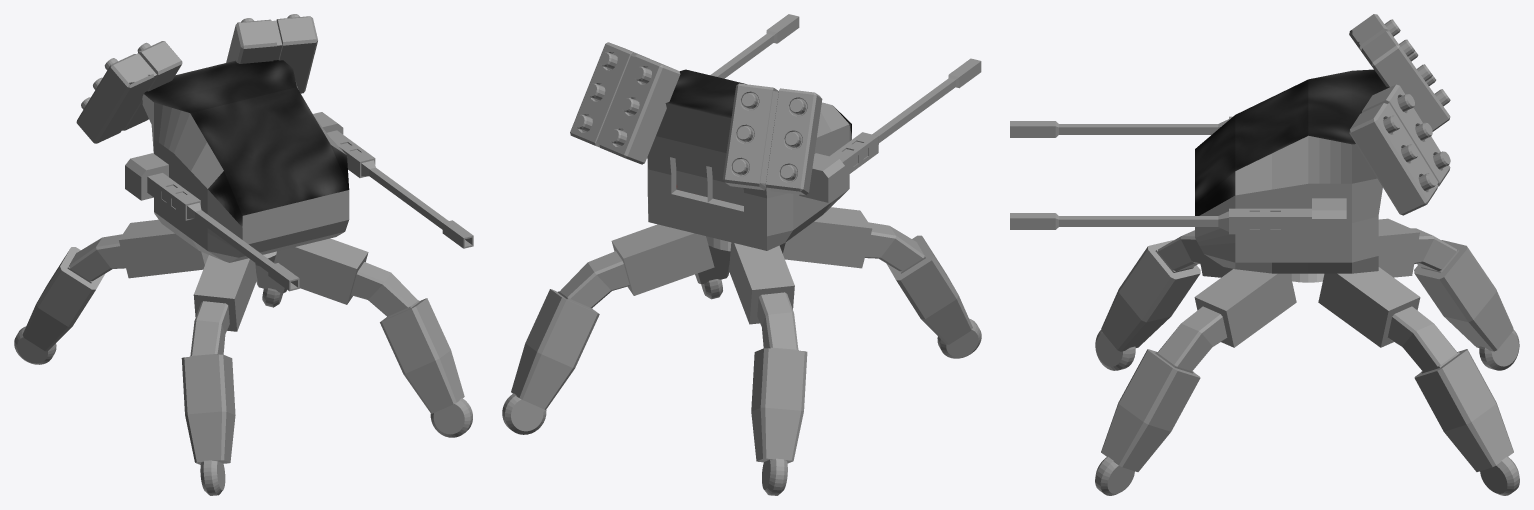
File: TestScene.glb
The picture shows the model from 3 angles, left to right: view 1: azimuth 30°, elevation 25°; view 2: azimuth 150°, elevation 25°; view 3: azimuth 270°, elevation 25°; orthographic projection. The views are drawn at different scales.
Parts seen in each view (by area): view 1: Top, Bottom; view 2: Top, Bottom; view 3: Top, Bottom.
Boxes of the visible parts, x1,y1,x2,y2 form: Top: (76,14,473,291); Bottom: (14,219,472,495); Top: (570,14,981,250); Bottom: (502,207,981,495); Top: (1010,14,1450,273); Bottom: (1095,218,1519,495).
Size of the model in its own units: 19.38 by 23.22 by 29.29.
9 materials, 9 textured.
